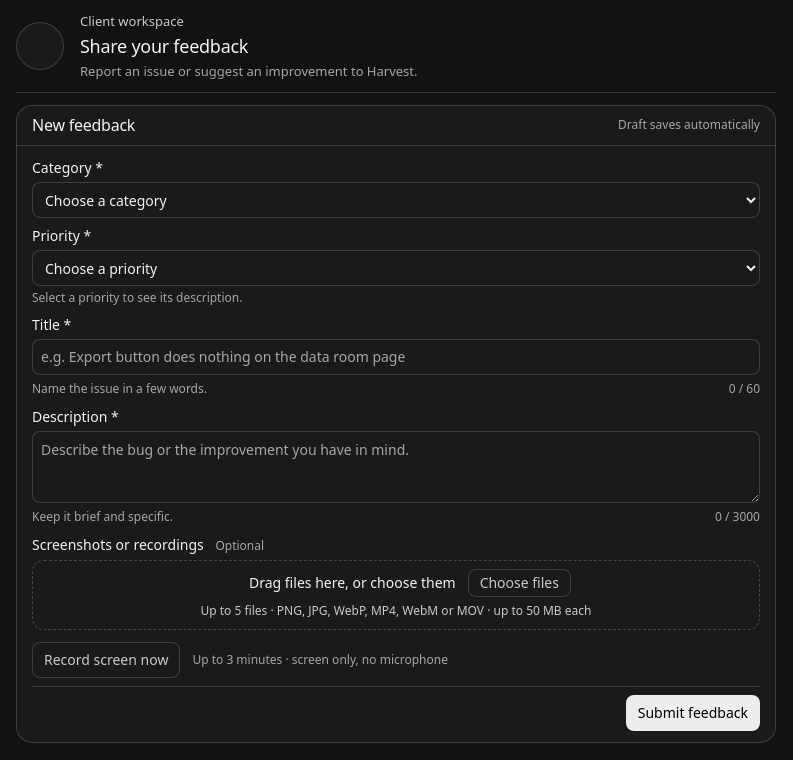
Test: counts title characters against the limit
Expected: the text "0 / 60" is shown, [729,379,760,399]
Step 1. Type "Export fails" into the field labelled "Title *" → (396, 357), box [32,339,760,375]
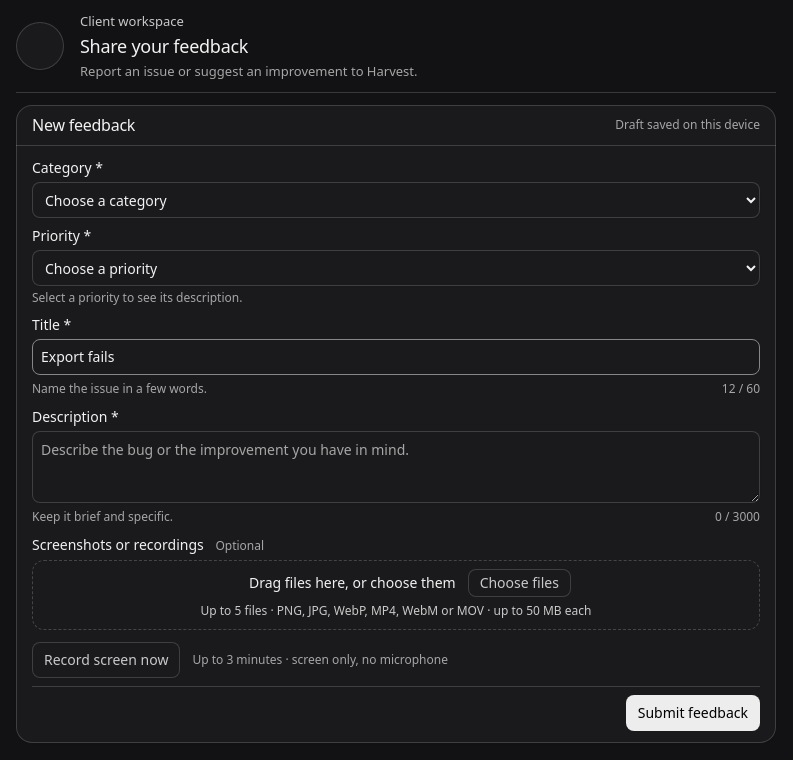
Expected: the text "12 / 60" is shown, [722,379,760,399]
